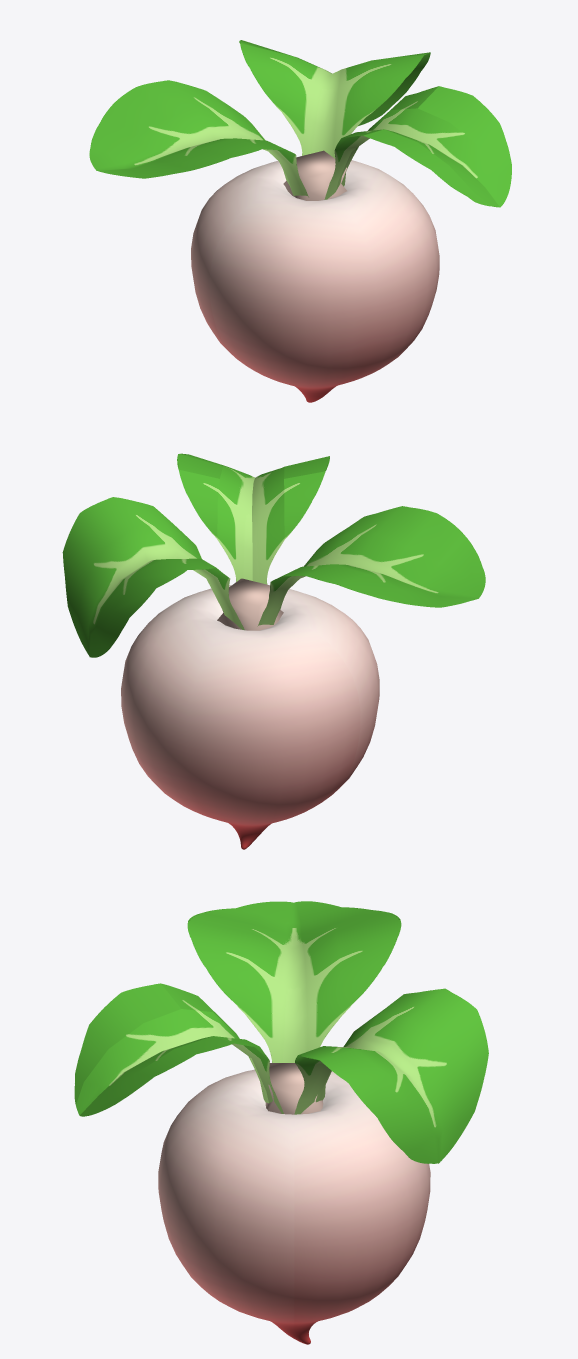
The model's file is turnip_fbx.fbx.
3 views of the same model, one above another, from view 1: azimuth 30°, elevation 25°; view 2: azimuth 150°, elevation 25°; view 3: azimuth 270°, elevation 25° (orthographic). The views are drawn at different scales.
Parts seen in each view (by area): view 1: Cube.043; view 2: Cube.043; view 3: Cube.043.
Part boxes in pixels (box(x1,y1,x2,y2)): Cube.043: box(89, 40, 511, 402); Cube.043: box(62, 453, 485, 849); Cube.043: box(74, 901, 488, 1344).
Bounding box in the file's own units: 60.21 × 42.14 × 57.01.
